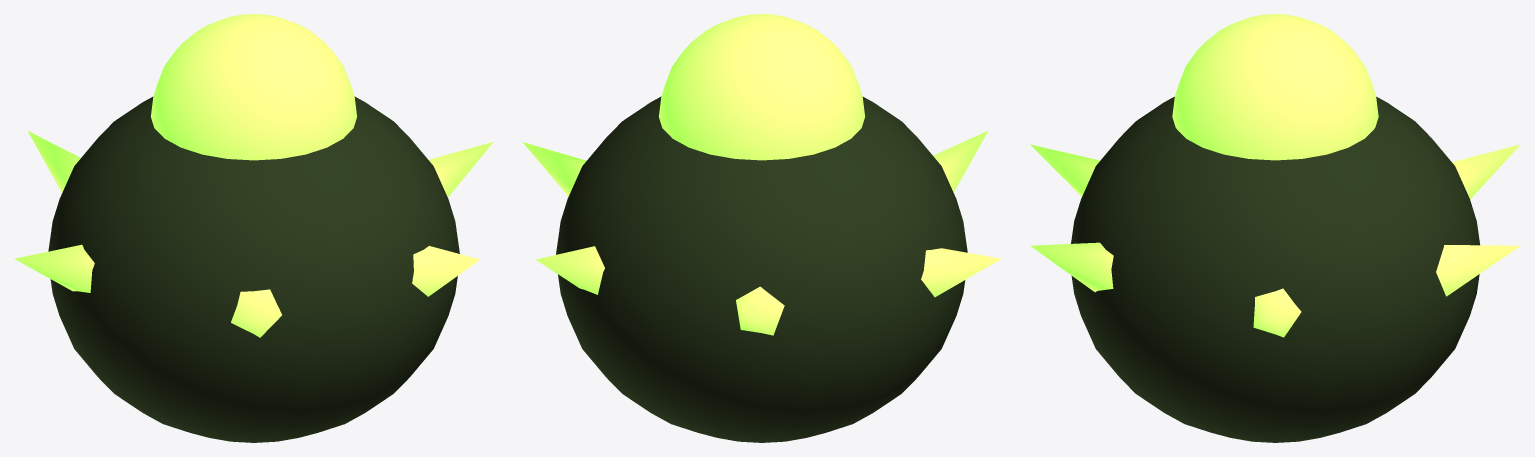
The model's file is seed.glb.
3 views of the same model, side by side, from view 1: azimuth 30°, elevation 25°; view 2: azimuth 150°, elevation 25°; view 3: azimuth 270°, elevation 25° (orthographic).
Visible parts, largest first — view 1: Body; view 2: Body; view 3: Body.
Boxes of the visible parts, left/top/right/bottom form: Body: left=14, top=14, right=493, bottom=442; Body: left=522, top=14, right=1001, bottom=442; Body: left=1030, top=14, right=1520, bottom=442.
Bounding box in the file's own units: 0.4291 × 0.34 × 0.3804.
